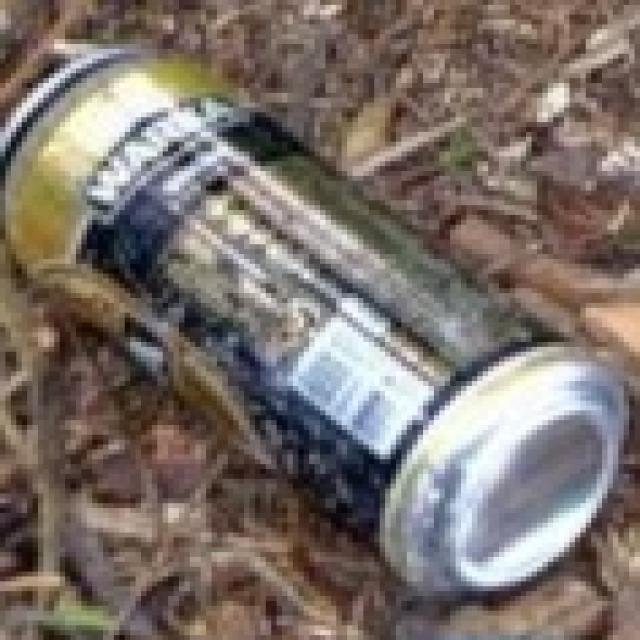can: (11, 0, 640, 606)
